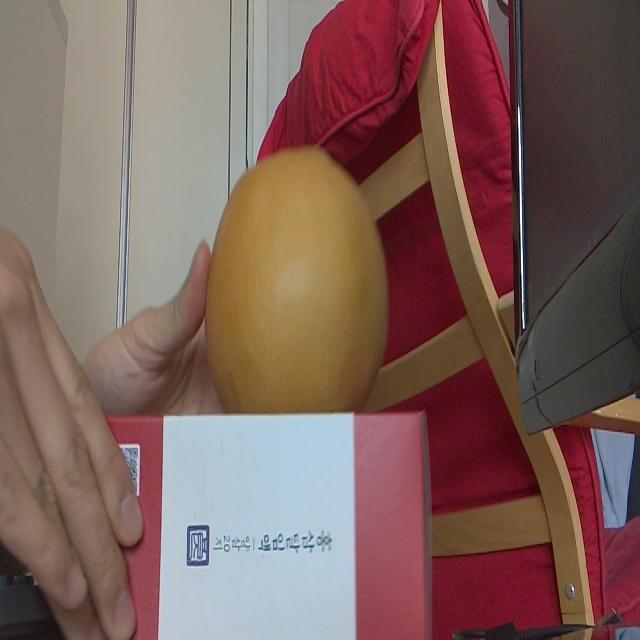pear: (201, 148, 389, 414)
